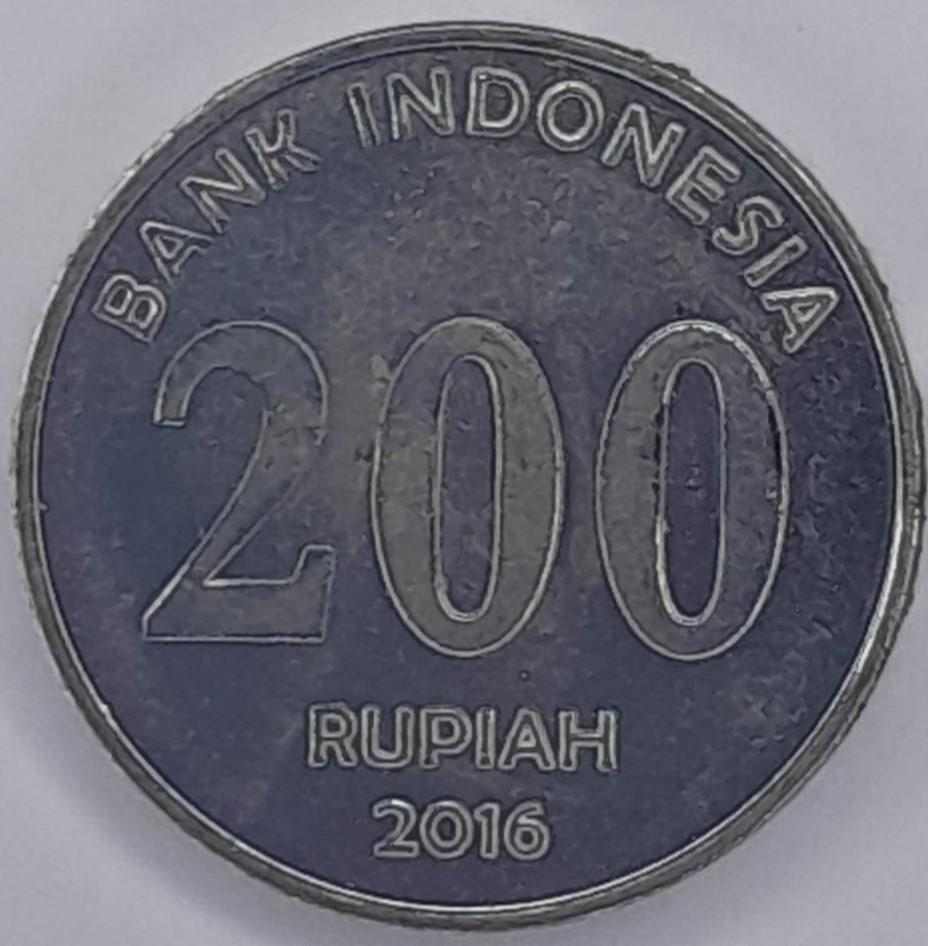coin_200_e2016: (0, 16, 928, 946)
